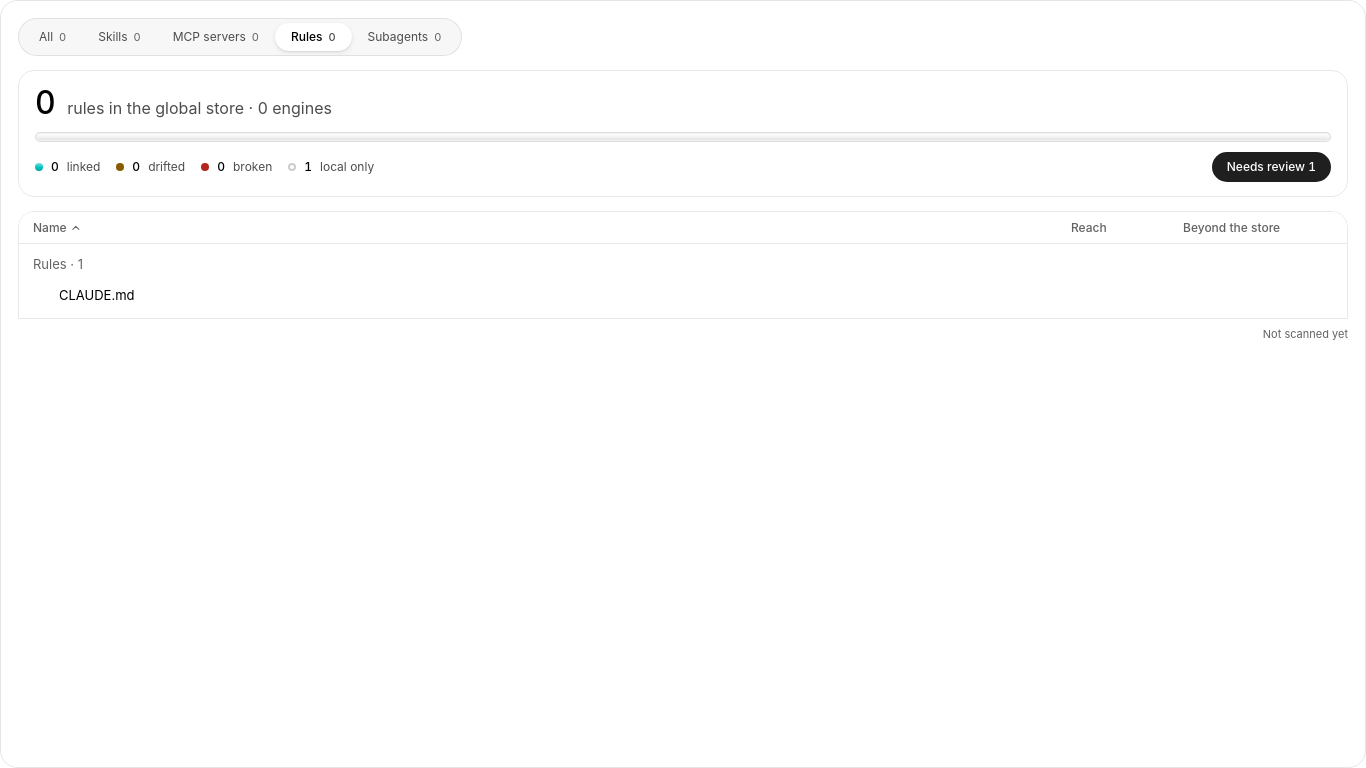
Test: ProfilePane Component-Level Filtering Integration › processes with no issues behind them: the popover discloses, and offers nowhere to go
Click the text "Needs review 1" at (1271, 167), box [1227,158,1316,176]
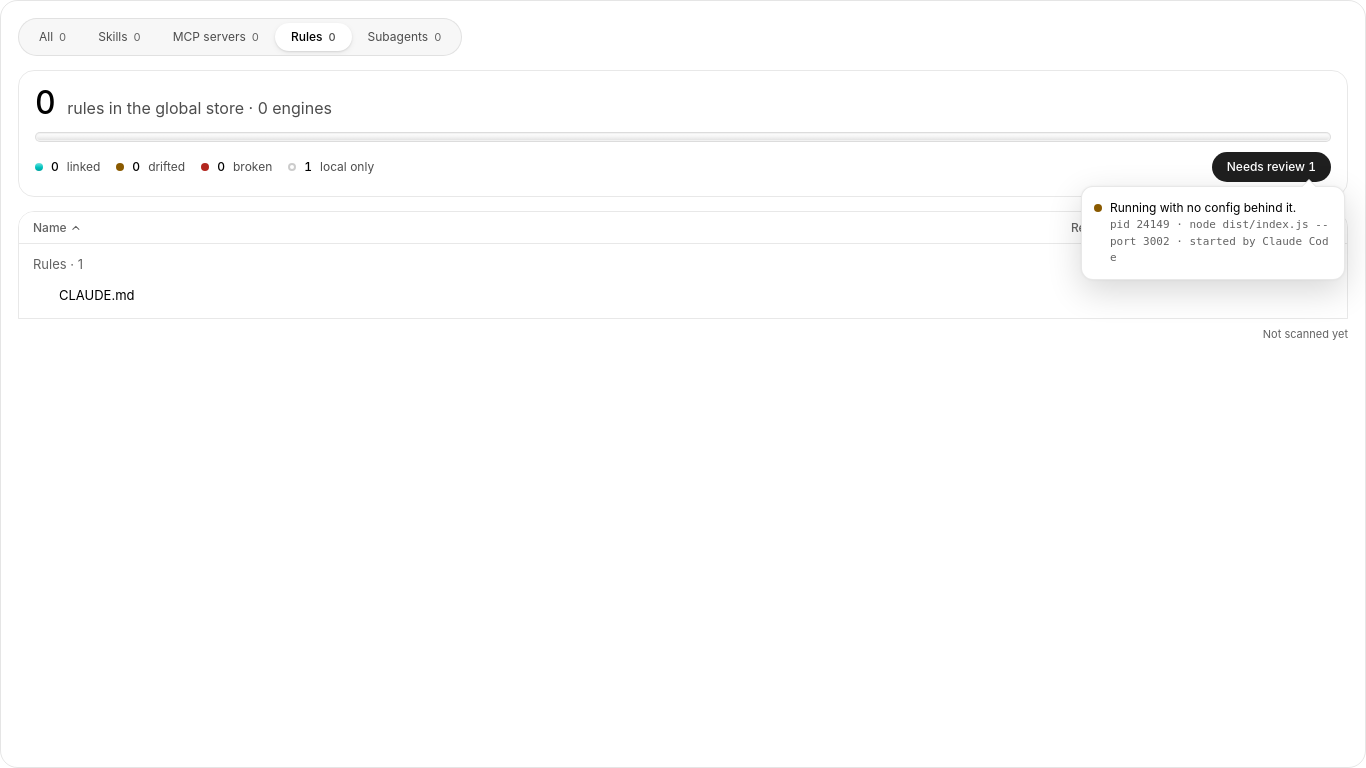
Expected: the list item with test id "finding-popover-line" shows "Running with no config behind it.", [1110,200,1296,215]
